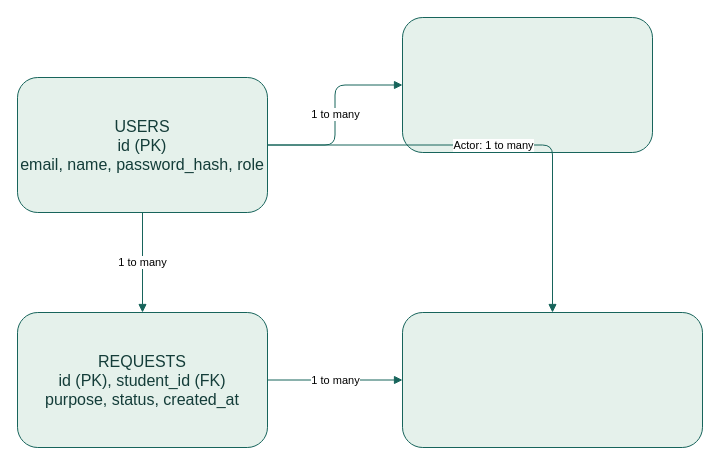
This 720x465 diagram has some shape labels left out. Here are the shapes that lost their labels. From the top down, the centre of each, then its label:
(527,84): SESSIONS token_hash (PK) user_id (FK), expires
(552,380): HISTORY id (PK), request_id (FK), actor_id (FK) status, note, changed_at
